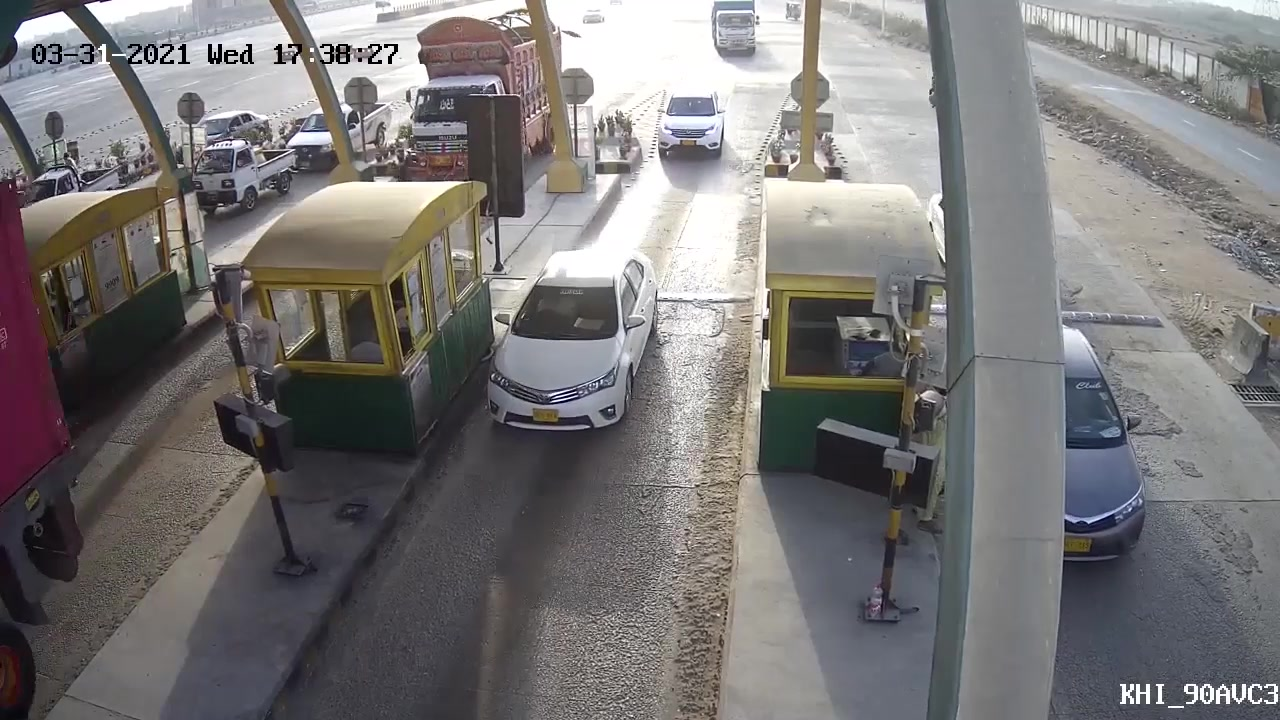F1: (477, 244, 666, 436)
